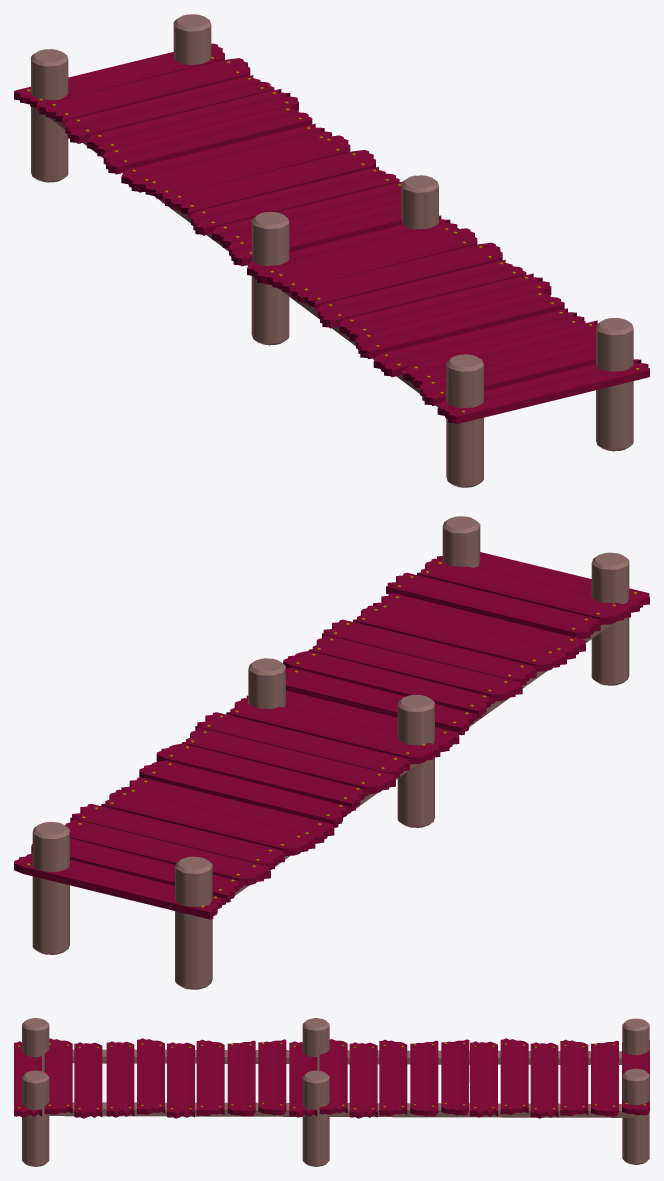
The model's file is Dock.fbx.
3 views of the same model, one above another, from view 1: azimuth 30°, elevation 25°; view 2: azimuth 150°, elevation 25°; view 3: azimuth 270°, elevation 25° (orthographic). The views are drawn at different scales.
Visible parts, largest first — view 1: Planks, Supports, Rivets; view 2: Planks, Supports; view 3: Planks, Supports, Rivets.
Part boxes in pixels (bbox=[...]): Planks: bbox=[14, 43, 649, 424]; Supports: bbox=[31, 14, 633, 487]; Rivets: bbox=[27, 57, 639, 412]; Planks: bbox=[14, 552, 649, 919]; Supports: bbox=[32, 516, 629, 989]; Planks: bbox=[14, 1038, 649, 1118]; Supports: bbox=[22, 1018, 649, 1166]; Rivets: bbox=[18, 1043, 645, 1109].
Bounding box in the file's own units: 255 × 138 × 916.
